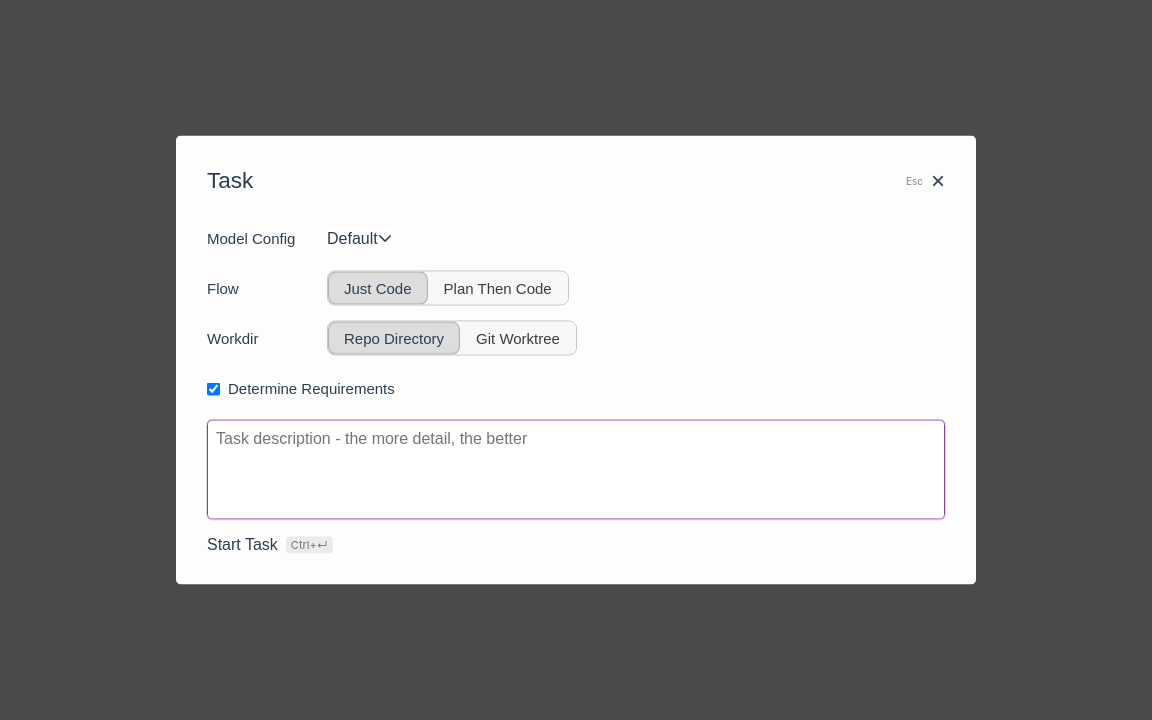
Test case: TaskModal localStorage behavior › save indicator › shows saved indicator after successful save
In the text box with placeholder "Task description - the more detail, the better": (576, 470) x1=207 y1=420 x2=945 y2=520, type "Some description"
Wait 1600 ms
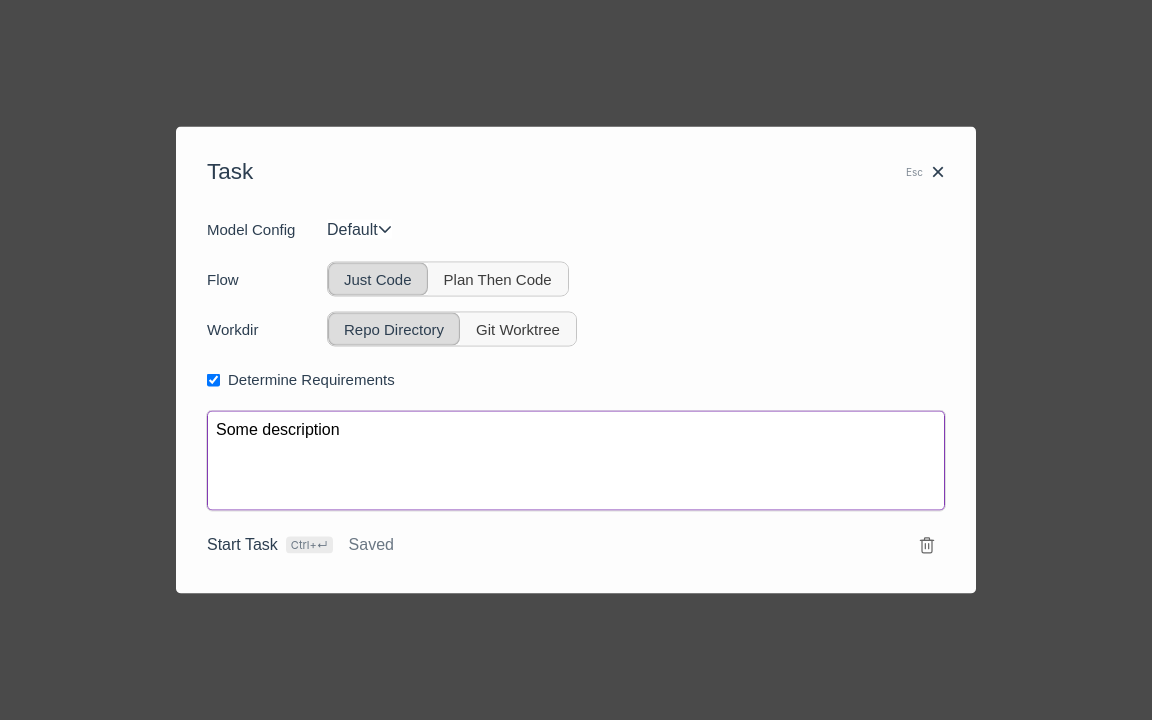
Result: the element with class "save-indicator" reads "Saved" at x1=349 y1=536 x2=394 y2=553
